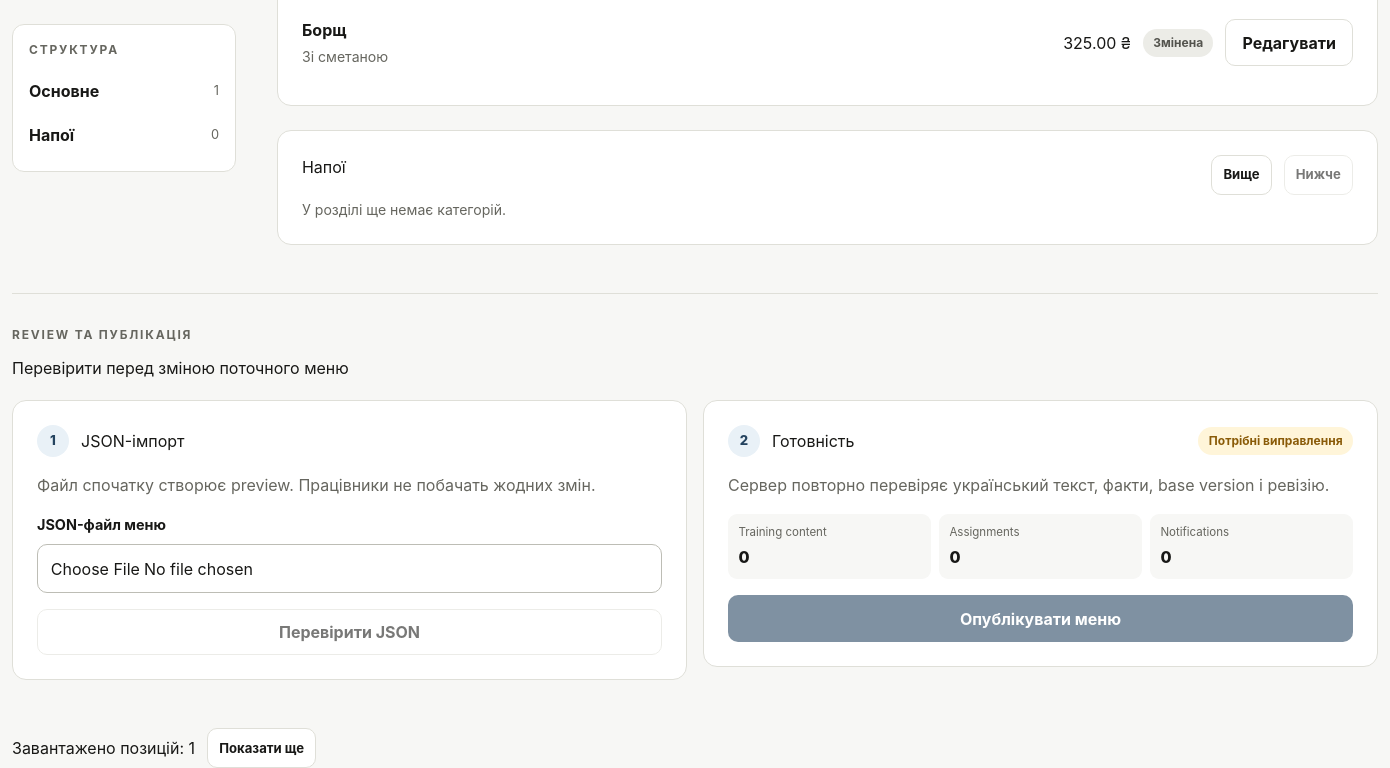
Scenario: Admin Menu workspace › ignores a late page from the previous location
(page scrolled)
Check: the text "Борщ" is shown, box [302,20,346,40]
Click the button "Показати ще" at (262, 748), box [207,728,316,767]
(page scrolled)
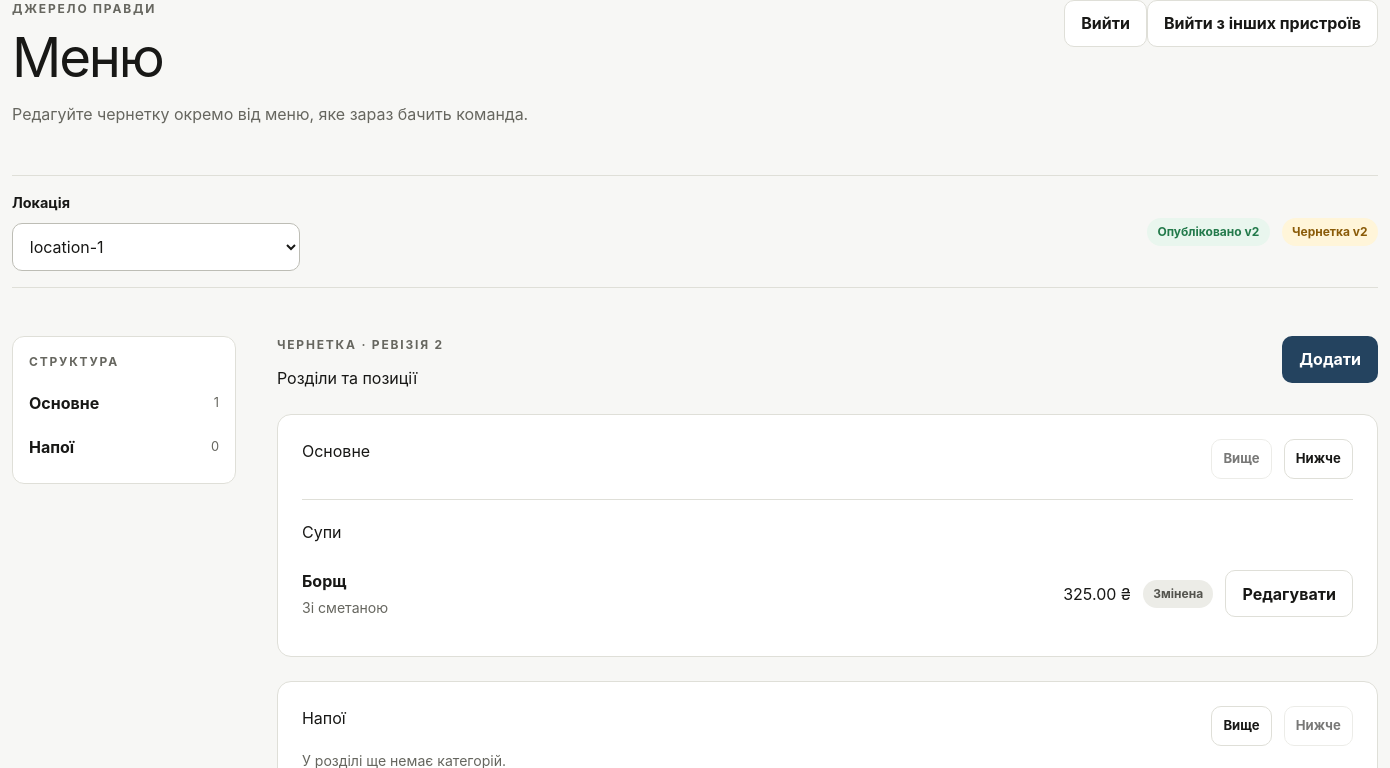
Select "location-2" in the dropdown labelled "Локація" at (156, 247), box [12,223,300,271]
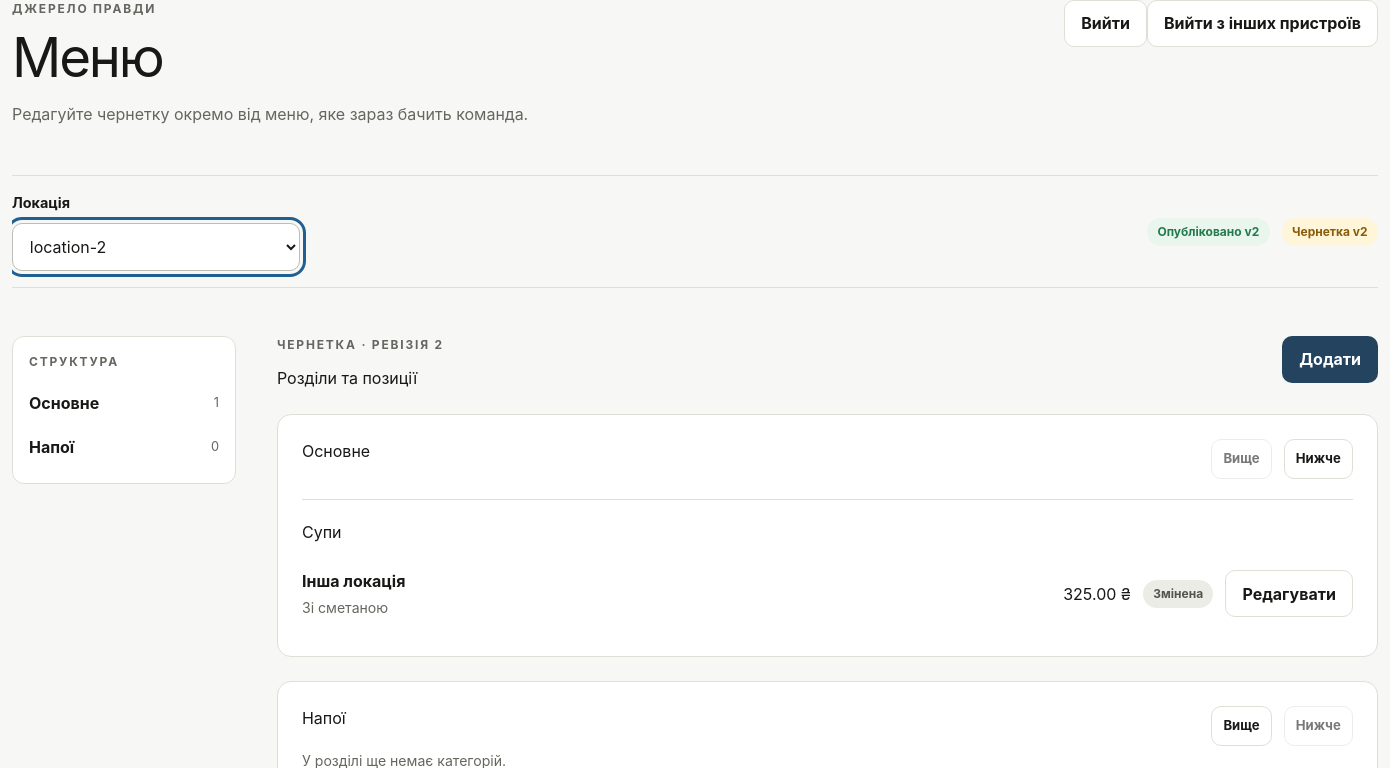
Check: the text "Інша локація" is shown, box [302,571,405,591]
Check: the text "Борщ" is gone
